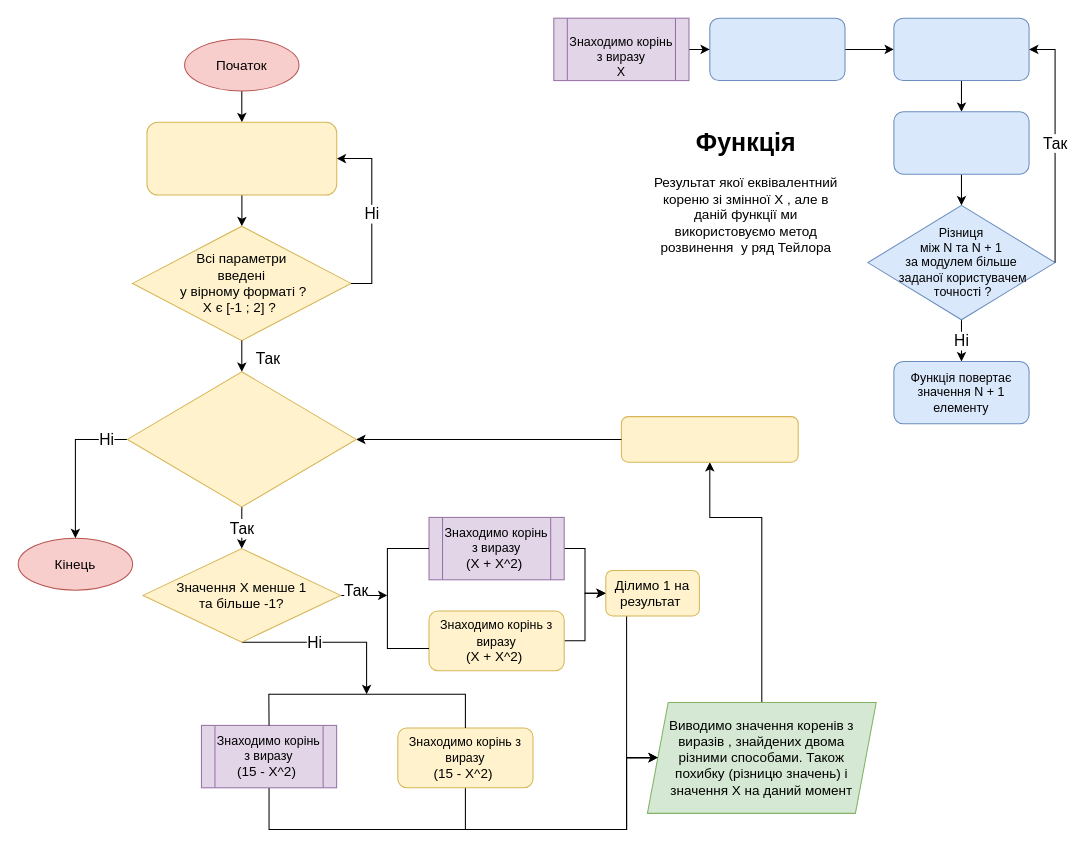
The diagram is 1085 pixels wide and 856 high, and some of its shapes have lost their labels. The centre of each missing label's shape, as x and y in pixels:
"N елемент дорівнює значенню N+1 елементу" goes at [961,49].
"Збільшуємо значення Х на крок" goes at [709,439].
"Змінні-елементи N і N +1 дорівнюють 1" goes at [777,49].
"Знаходимо значення нового N + 1 елементу" goes at [961,142].
"Наразі значення Х менше або дорівнює заданого максимального значення Х?" goes at [241,439].
"Просимо ввести початкове та максимальне значення Х, точність розрахунків та крок" goes at [241,158].
